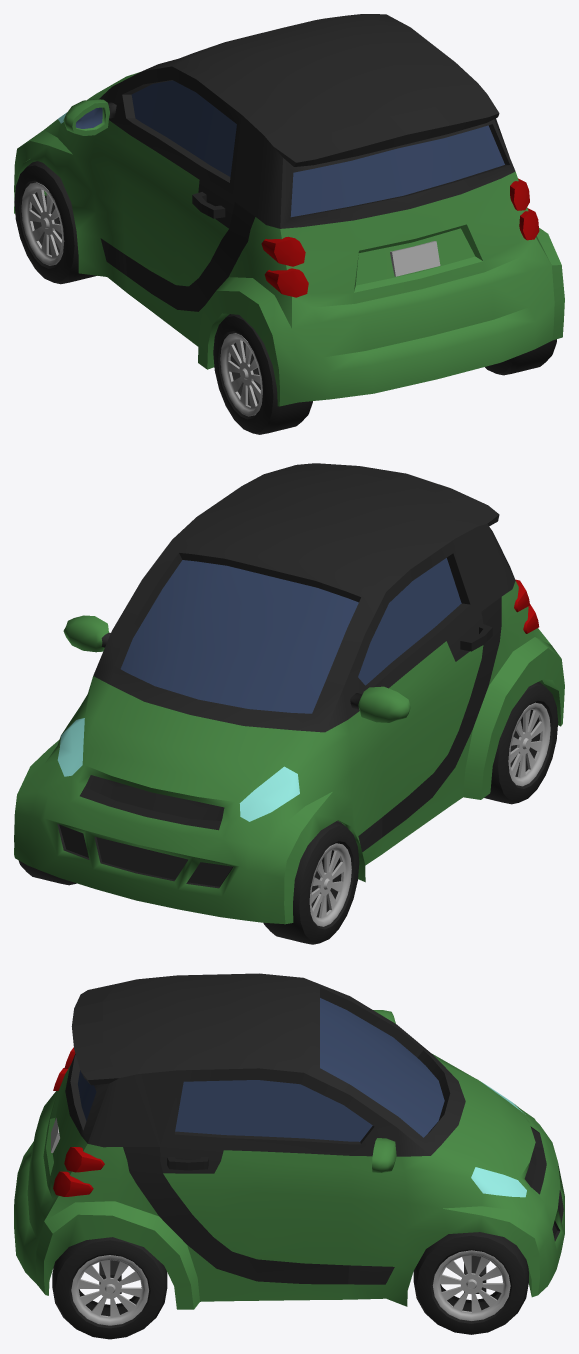
File: smartcar.fbx
3 views of the same model, one above another, from view 1: azimuth 30°, elevation 25°; view 2: azimuth 150°, elevation 25°; view 3: azimuth 270°, elevation 25° (orthographic). The views are drawn at different scales.
Parts seen in each view (by area): view 1: group5_pCube21, pCylinder18, pCylinder16, pCylinder15, pCylinder17, pCube28, pCube26, pCylinder13, pCube29, pCube27; view 2: group5_pCube21, pCylinder16, pCylinder18, pCylinder17, pCylinder15, pCube28, pCube25; view 3: group5_pCube21, pCylinder11, pCylinder13, pCylinder14, pCylinder12, pCube25, pCube23, pCube24, pCube21.
Boxes of the visible parts, x1=… form: group5_pCube21: x1=14, y1=14, x2=564, y2=406; pCylinder18: x1=213, y1=314, x2=312, y2=434; pCylinder16: x1=14, y1=161, x2=96, y2=284; pCylinder15: x1=21, y1=182, x2=64, y2=265; pCylinder17: x1=220, y1=333, x2=262, y2=416; pCube28: x1=63, y1=99, x2=116, y2=135; pCube26: x1=390, y1=241, x2=440, y2=276; pCylinder13: x1=485, y1=339, x2=556, y2=375; pCube29: x1=261, y1=236, x2=305, y2=266; pCube27: x1=264, y1=268, x2=308, y2=297; group5_pCube21: x1=14, y1=463, x2=564, y2=924; pCylinder16: x1=263, y1=821, x2=359, y2=944; pCylinder18: x1=484, y1=682, x2=558, y2=804; pCylinder17: x1=508, y1=702, x2=550, y2=786; pCylinder15: x1=309, y1=843, x2=351, y2=926; pCube28: x1=350, y1=686, x2=410, y2=722; pCube25: x1=63, y1=615, x2=110, y2=652; group5_pCube21: x1=14, y1=973, x2=564, y2=1309; pCylinder11: x1=413, y1=1232, x2=528, y2=1334; pCylinder13: x1=52, y1=1237, x2=167, y2=1339; pCylinder14: x1=71, y1=1255, x2=148, y2=1325; pCylinder12: x1=432, y1=1250, x2=510, y2=1320; pCube25: x1=372, y1=1138, x2=396, y2=1172; pCube23: x1=64, y1=1147, x2=104, y2=1172; pCube24: x1=53, y1=1171, x2=93, y2=1196; pCube21: x1=167, y1=1157, x2=208, y2=1170.
Bounding box in the file's own units: 5.94 × 4.9 × 9.09.
